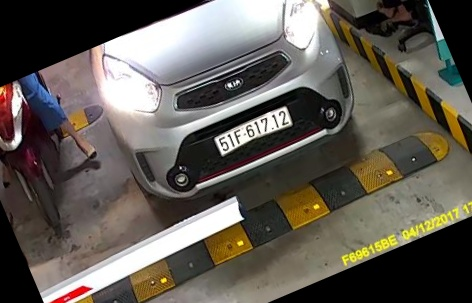plate: (208, 108, 300, 157)
